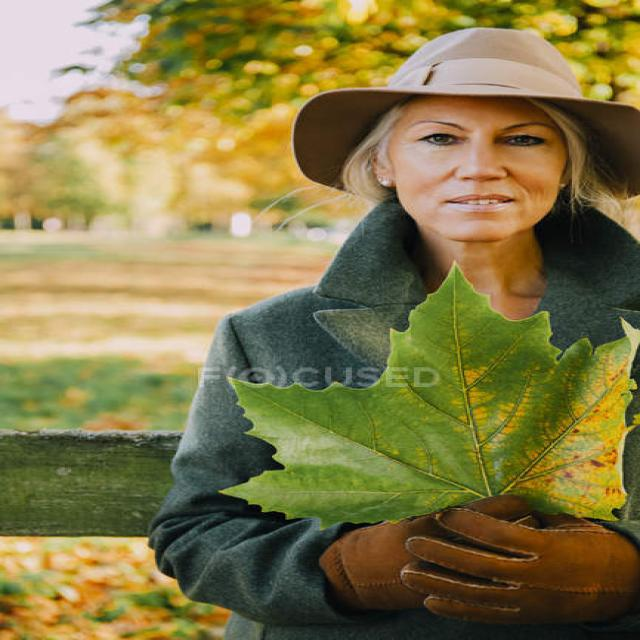hat: (289, 30, 640, 243)
